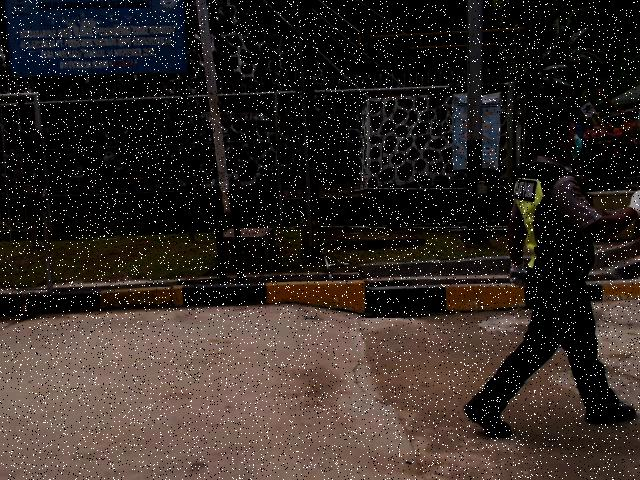gloves: (505, 258, 531, 289), (625, 187, 639, 219)
mask: (571, 135, 582, 160)
safety-shoes: (459, 397, 516, 439), (583, 401, 637, 425)
